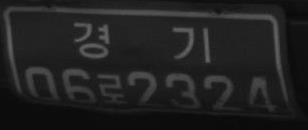0: (24, 65, 60, 101)
2: (203, 73, 240, 113), (128, 70, 161, 107)
3: (164, 71, 201, 110)
4: (245, 75, 278, 113)
6: (61, 66, 97, 104)
경기_D: (72, 21, 211, 63)
로: (97, 72, 128, 106)
